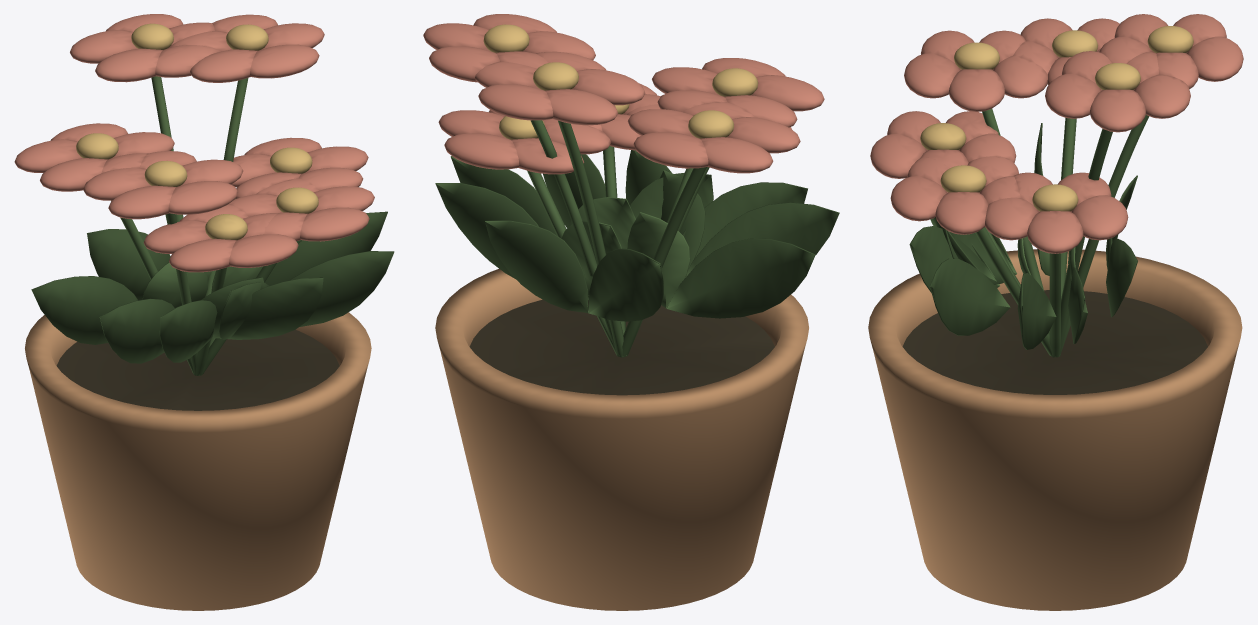
Rendered from flowers.glb.
The picture shows the model from 3 angles, left to right: view 1: azimuth 30°, elevation 25°; view 2: azimuth 150°, elevation 25°; view 3: azimuth 270°, elevation 25°; orthographic projection. The views are drawn at different scales.
Visible parts, largest first — view 1: Atelier_Flowers; view 2: Atelier_Flowers; view 3: Atelier_Flowers.
Part boxes in pixels (x1,y1,x2,y2): Atelier_Flowers: [14, 14, 394, 610]; Atelier_Flowers: [423, 14, 839, 610]; Atelier_Flowers: [868, 14, 1243, 610].
Bounding box in the file's own units: 0.4482 × 0.606 × 0.389.
